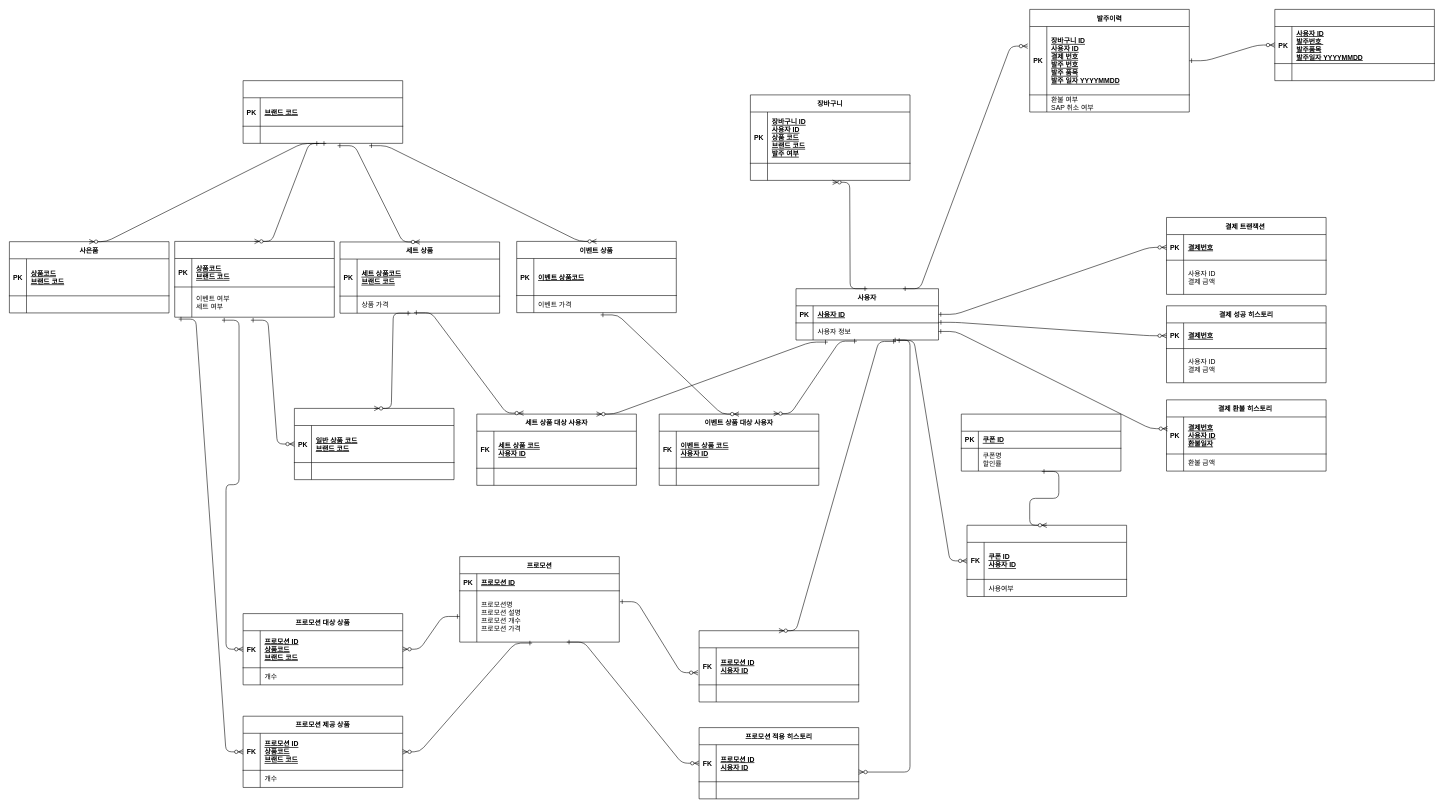
This 1444x808 diagram has some shape labels left out. The shapes that lost their labels are listed below. From the top down, each one's box as (x1, y1, x2, y2) in pixels, then its label:
(1274, 9, 1434, 81): SAP 전산 처리
(243, 80, 403, 143): 브랜드 마스터
(174, 241, 334, 317): 일반 상품
(294, 408, 454, 480): 세트 상품 리스트
(961, 414, 1121, 471): 쿠폰 마스터
(966, 525, 1127, 597): 쿠폰 발급 대상
(699, 630, 859, 702): 프로모션 대상 사용자
